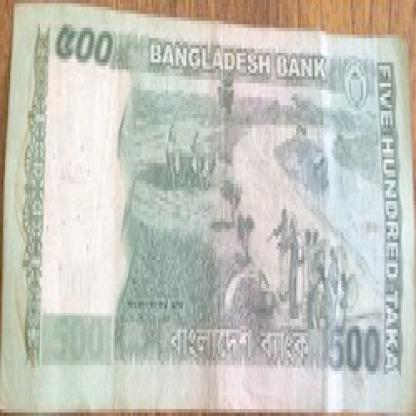500 taka: (53, 17, 128, 80)
currency: (5, 7, 414, 409)
